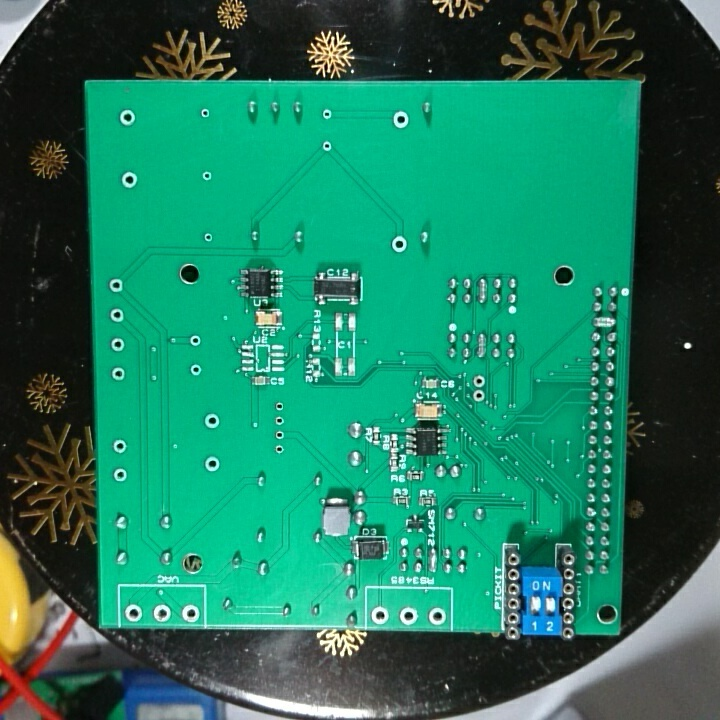F: (119, 601, 146, 626), (368, 603, 394, 626), (396, 603, 421, 626), (150, 601, 176, 623), (119, 166, 141, 191), (390, 109, 412, 132), (201, 411, 224, 433), (179, 602, 201, 625), (389, 232, 410, 256), (118, 106, 139, 130), (426, 603, 447, 627), (107, 303, 130, 324), (111, 435, 132, 457), (201, 454, 221, 475), (110, 466, 133, 484), (107, 276, 127, 296), (110, 335, 130, 355), (110, 365, 129, 386), (471, 387, 489, 406), (187, 332, 207, 349), (198, 104, 215, 123), (199, 167, 216, 186), (472, 372, 489, 389), (271, 439, 287, 457), (319, 137, 334, 155), (201, 229, 216, 247), (270, 427, 289, 441), (320, 106, 335, 123), (272, 413, 289, 428), (188, 361, 202, 378), (271, 399, 288, 413)
P: (590, 313, 617, 331), (476, 274, 490, 308), (427, 546, 440, 573), (476, 332, 487, 360)
